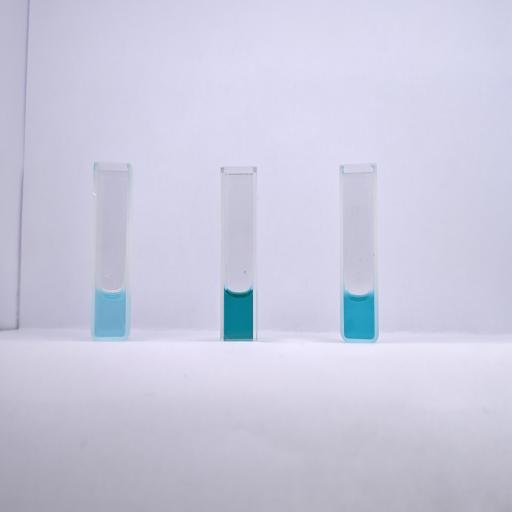cuvette: (90, 161, 134, 342), (338, 161, 380, 344), (218, 164, 258, 343)
liquid: (95, 290, 126, 338), (344, 291, 374, 339), (224, 289, 253, 338)
